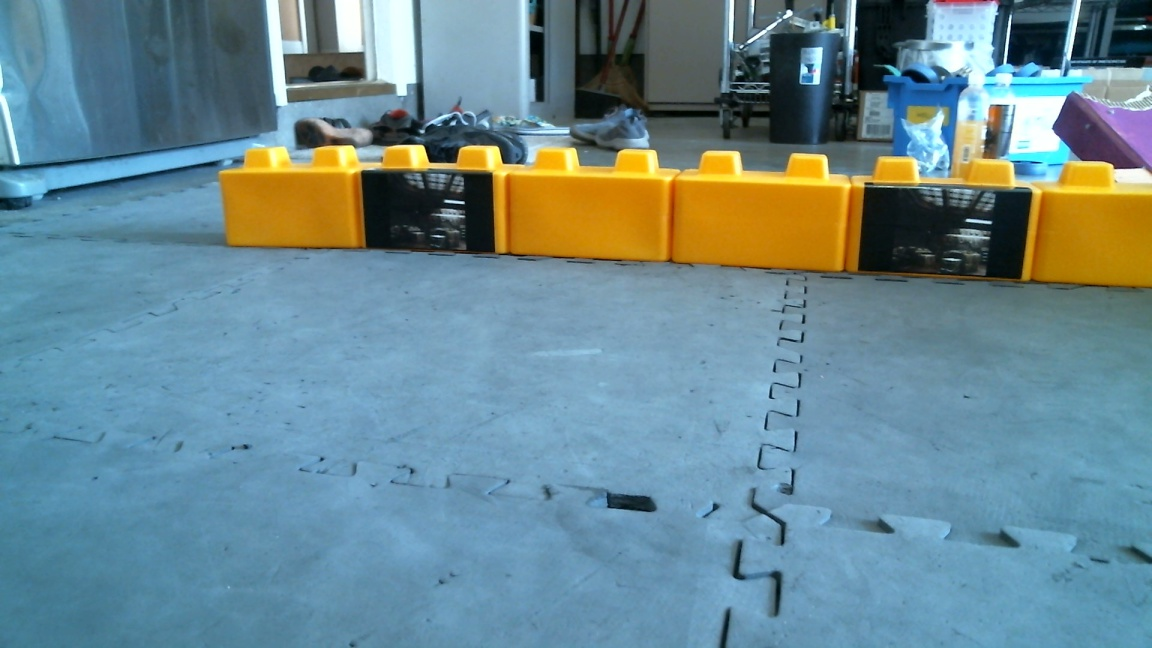center: (669, 155, 1152, 289), (224, 147, 666, 280)
left: (354, 144, 850, 280)
right: (506, 147, 1041, 279)
